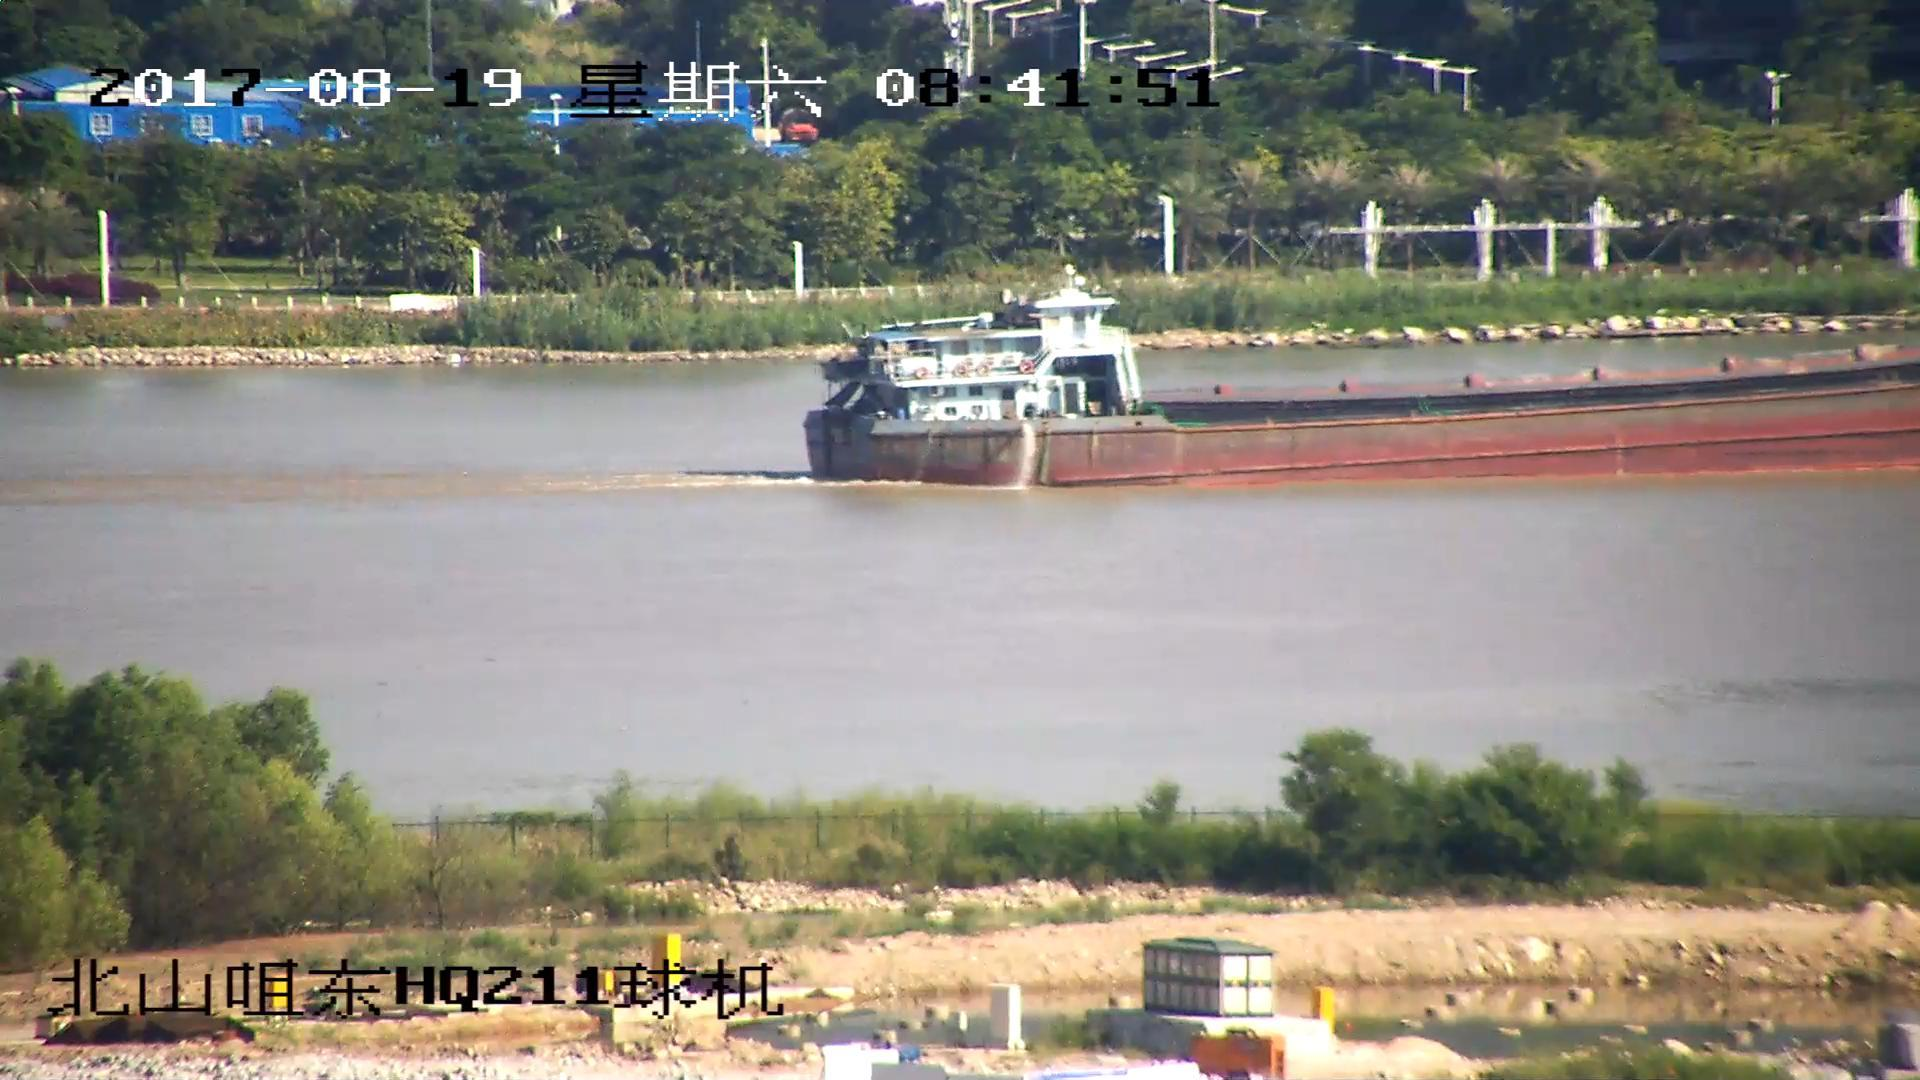Ship: (798, 272, 1920, 493)
